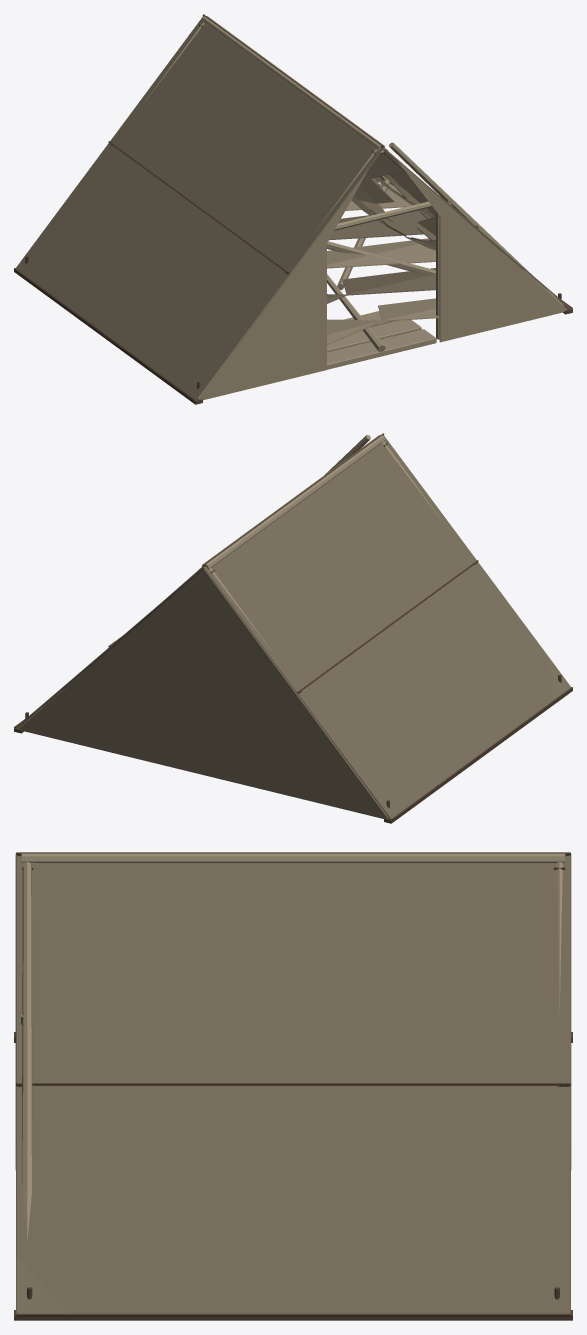
File: shelter.glb
3 views of the same model, one above another, from view 1: azimuth 30°, elevation 25°; view 2: azimuth 150°, elevation 25°; view 3: azimuth 270°, elevation 25° (orthographic). The views are drawn at different scales.
Parts seen in each view (by area): view 1: state_intact_mesh, state_damaged_mesh, critical_standing_mesh, critical_ruins_mesh; view 2: state_intact_mesh, critical_standing_mesh, state_damaged_mesh, critical_ruins_mesh; view 3: state_intact_mesh, critical_standing_mesh, state_damaged_mesh, critical_ruins_mesh.
Boxes of the visible parts, left/top/right/bottom form: state_intact_mesh: left=15, top=14, right=568, bottom=387; state_damaged_mesh: left=109, top=16, right=566, bottom=400; critical_standing_mesh: left=14, top=15, right=572, bottom=401; critical_ruins_mesh: left=14, top=178, right=572, bottom=404; state_intact_mesh: left=108, top=433, right=553, bottom=818; critical_standing_mesh: left=14, top=434, right=572, bottom=820; state_damaged_mesh: left=201, top=435, right=477, bottom=692; critical_ruins_mesh: left=14, top=688, right=572, bottom=823; state_intact_mesh: left=16, top=852, right=570, bottom=1313; critical_standing_mesh: left=15, top=853, right=571, bottom=1316; state_damaged_mesh: left=16, top=853, right=570, bottom=1086; critical_ruins_mesh: left=14, top=1032, right=572, bottom=1320.
Bounding box in the file's own units: 6.02 × 3.22 × 5.
